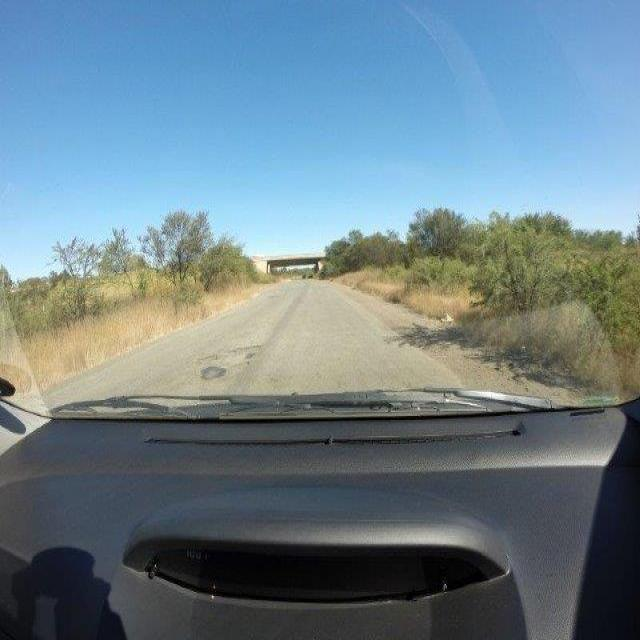lubang: (196, 354, 228, 386), (227, 338, 266, 358)
